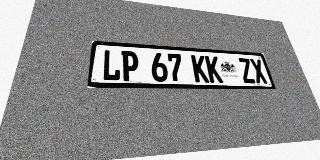6: (151, 52, 169, 82)
7: (166, 53, 184, 82)
K: (191, 55, 209, 83), (205, 56, 223, 83)
L: (102, 50, 121, 81)
P: (121, 51, 139, 81)
X: (249, 59, 268, 84)
Z: (237, 58, 256, 83)
